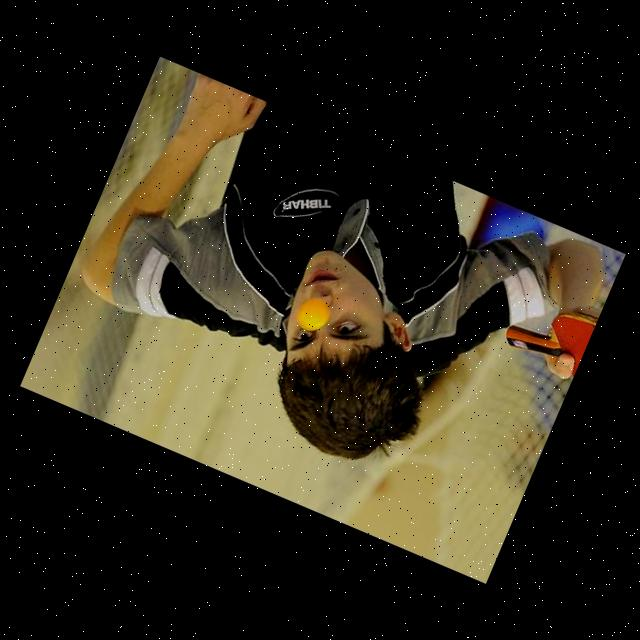ping-pong-ball: (290, 292, 334, 336)
